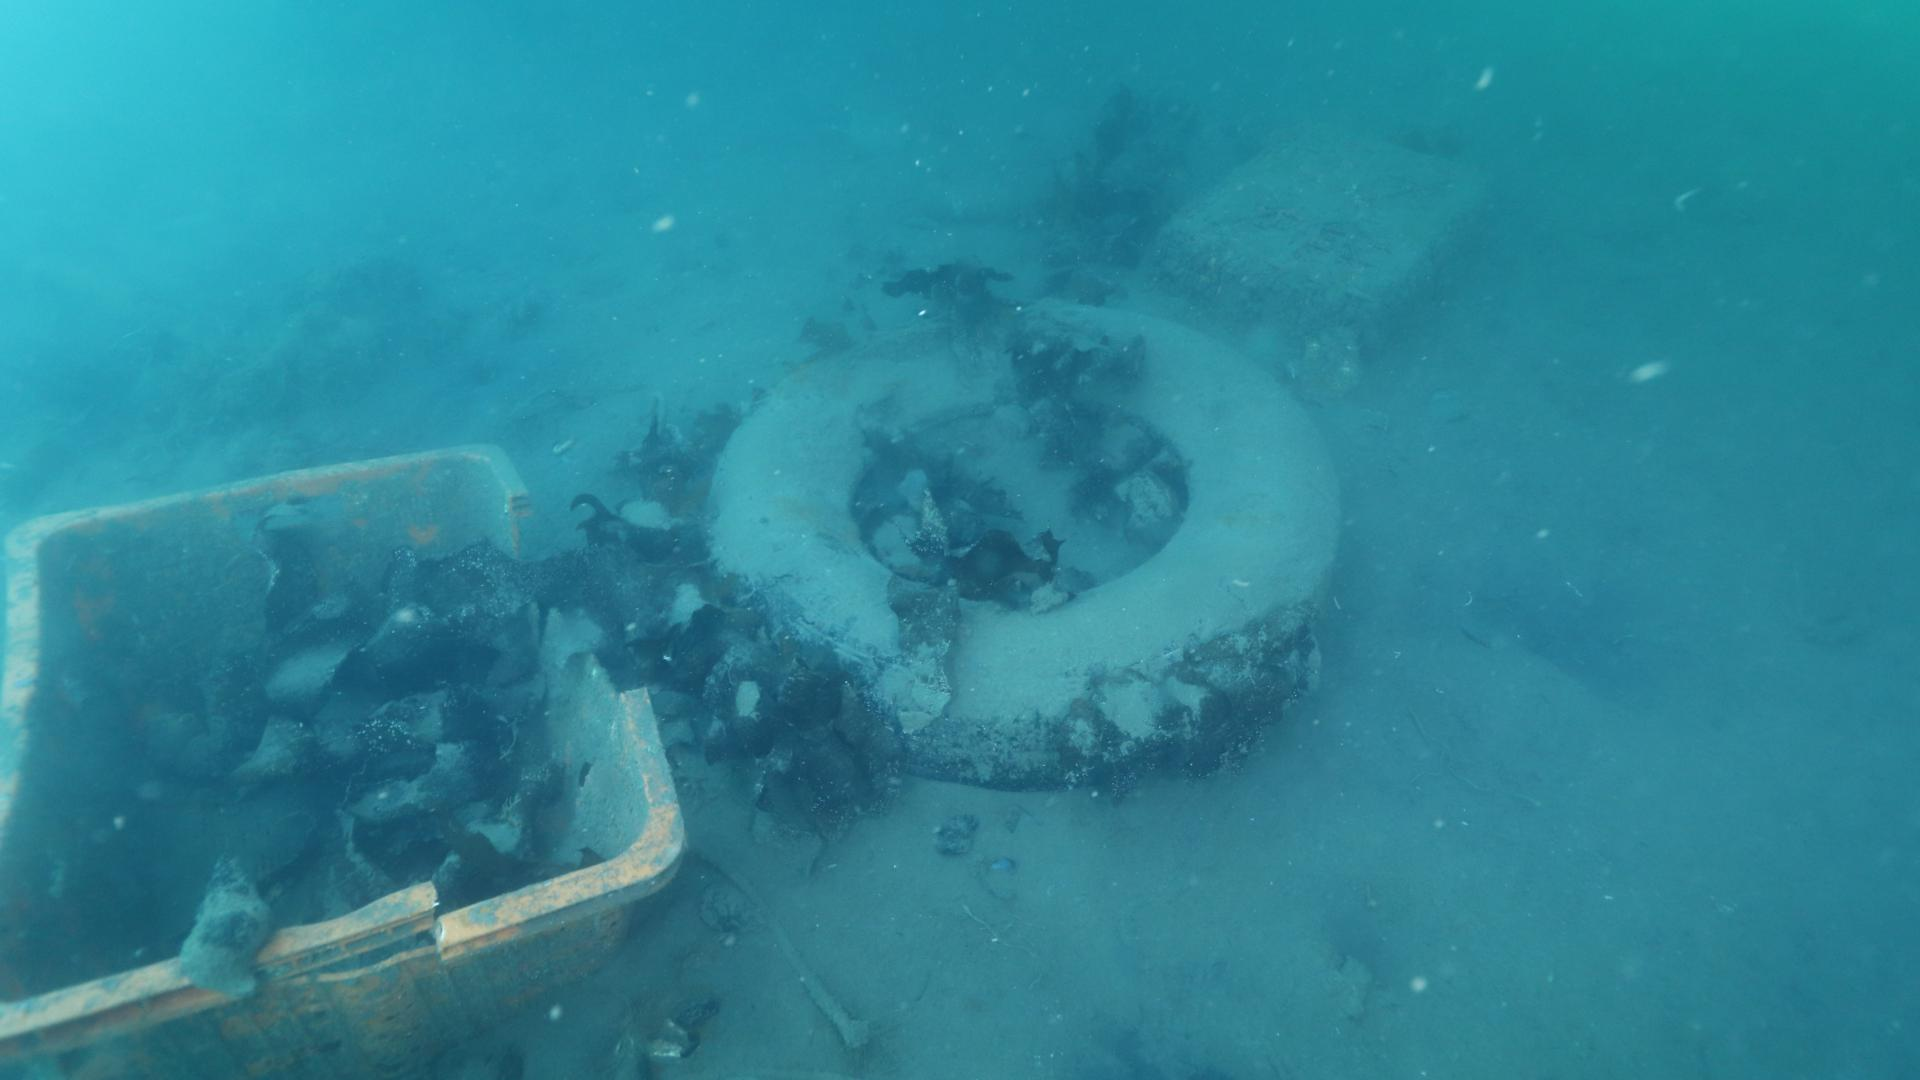tire: (705, 302, 1350, 800)
